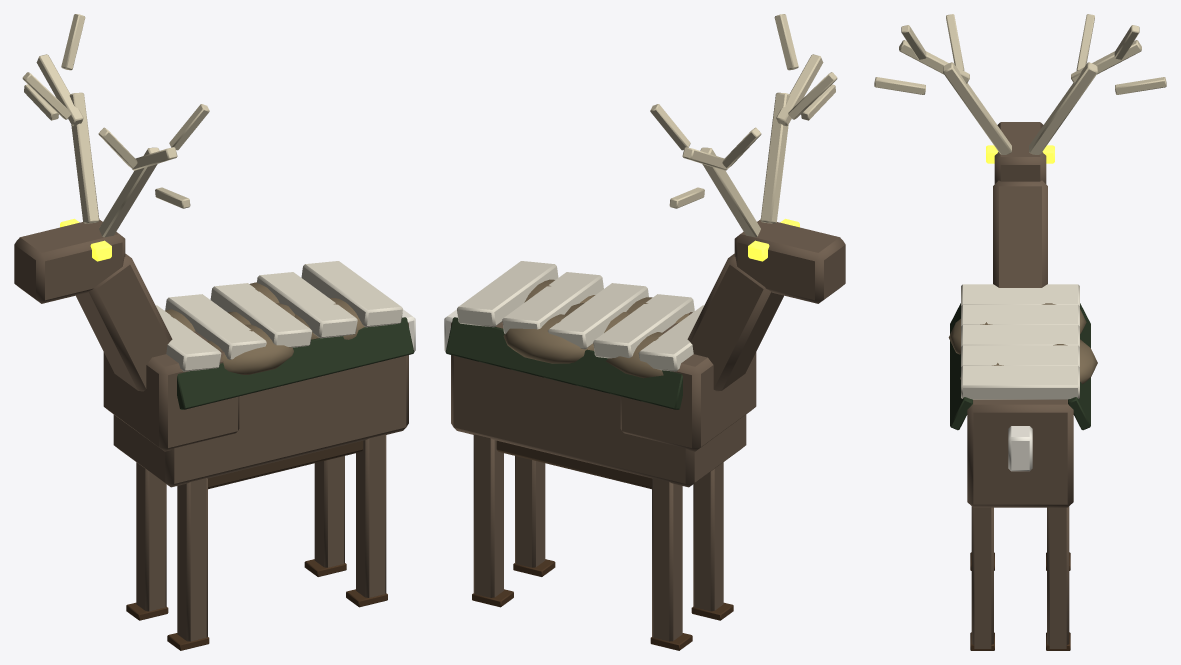
File: stag.glb
3 views of the same model, side by side, from view 1: azimuth 30°, elevation 25°; view 2: azimuth 150°, elevation 25°; view 3: azimuth 270°, elevation 25° (orthographic). The views are drawn at different scales.
Visible parts, largest first — view 1: body, armorMelee, antlers, armorRanged, head, neck, legFL, legBL, legFR, legBR, armorFire; view 2: body, armorMelee, antlers, head, neck, armorRanged, legFR, legBR, legFL, armorFire, legBL; view 3: armorMelee, body, antlers, neck, legBL, legBR, head, armorRanged, tail, armorFire.
Boxes of the visible parts, <box> form: body: <box>103,323,408,489</box>; armorMelee: <box>155,261,402,371</box>; antlers: <box>22,14,209,237</box>; armorRanged: <box>177,317,414,409</box>; head: <box>14,218,125,303</box>; neck: <box>76,253,172,391</box>; legFL: <box>167,478,209,650</box>; legBL: <box>346,434,387,607</box>; legFR: <box>126,462,168,620</box>; legBR: <box>304,456,346,576</box>; armorFire: <box>165,282,364,374</box>; body: <box>451,312,756,489</box>; armorMelee: <box>457,261,704,371</box>; antlers: <box>650,14,837,237</box>; head: <box>734,218,845,303</box>; neck: <box>687,253,783,391</box>; armorRanged: <box>445,317,682,409</box>; legFR: <box>650,478,692,650</box>; legBR: <box>472,434,513,607</box>; legFL: <box>691,462,733,620</box>; armorFire: <box>503,279,688,378</box>; legBL: <box>513,456,555,576</box>; armorMelee: <box>961,284,1079,399</box>; body: <box>967,399,1073,507</box>; antlers: <box>874,14,1166,154</box>; neck: <box>993,180,1047,287</box>; legBL: <box>970,506,994,650</box>; legBR: <box>1046,506,1070,650</box>; head: <box>986,122,1054,183</box>; armorRanged: <box>950,303,1090,430</box>; tail: <box>1008,426,1032,471</box>; armorFire: <box>948,303,1097,384</box>.
Size of the model in its own units: 2.37 by 3.39 by 1.7.
